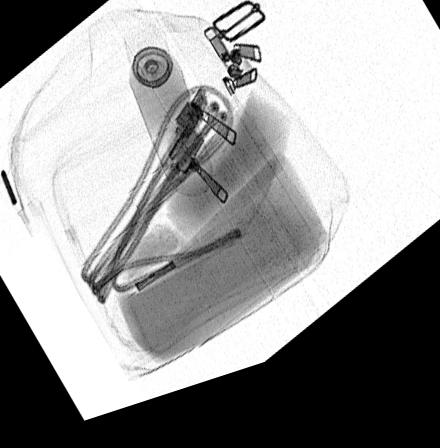Sprayer: (123, 30, 212, 211)
